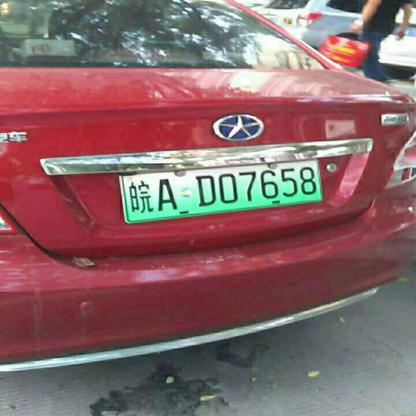lp: (121, 161, 320, 221)
